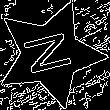N_E: (20, 28, 80, 80)
